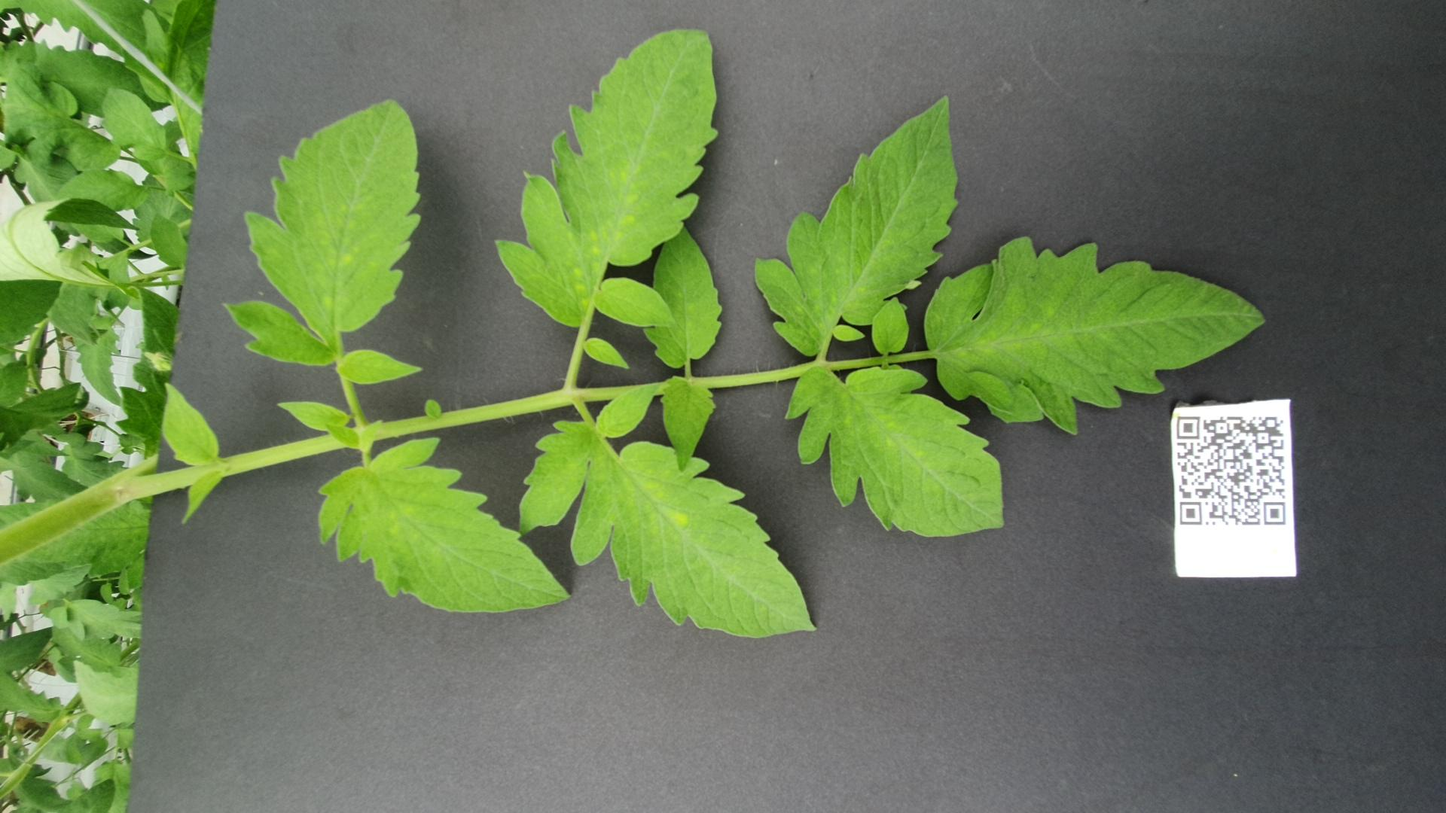Healthy: (307, 290, 757, 460), (671, 518, 1030, 712), (865, 278, 1403, 405), (760, 124, 1269, 238), (805, 422, 1295, 539), (355, 177, 651, 320), (485, 441, 797, 565), (792, 360, 1041, 409), (594, 371, 777, 403), (1159, 56, 1289, 95), (621, 91, 768, 123), (1068, 32, 1146, 83), (724, 43, 863, 68), (967, 83, 1067, 107)
